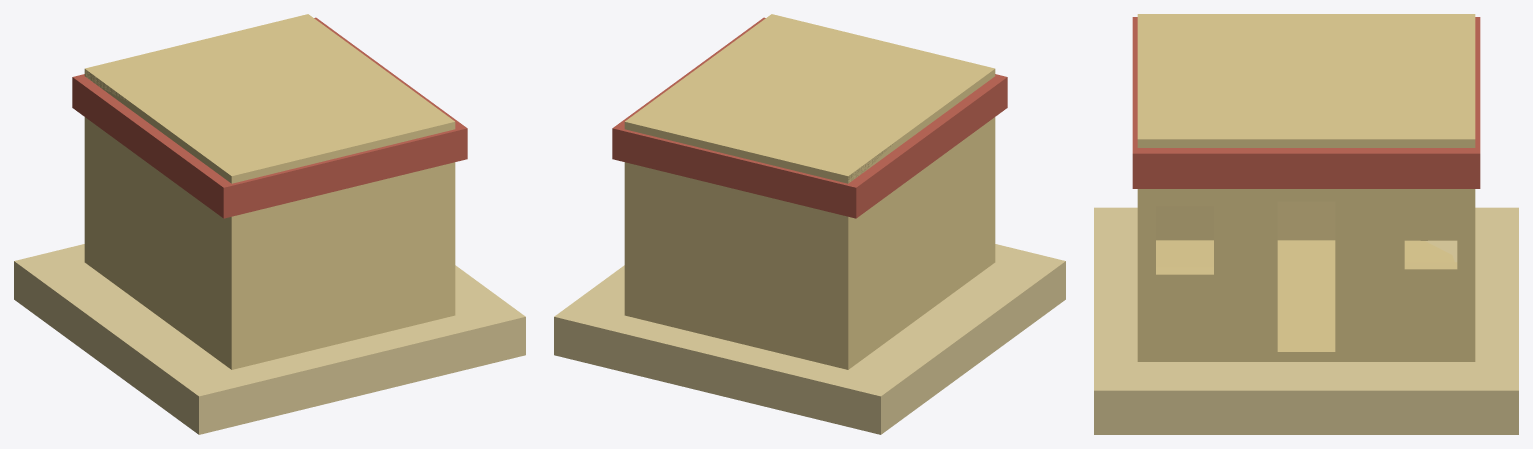
File: House2.fbx
3 views of the same model, side by side, from view 1: azimuth 30°, elevation 25°; view 2: azimuth 150°, elevation 25°; view 3: azimuth 270°, elevation 25° (orthographic). The views are drawn at different scales.
Parts seen in each view (by area): view 1: Cube.025; view 2: Cube.025; view 3: Cube.025.
Boxes of the visible parts, box(x1,y1,x2,y2) form: Cube.025: box(14, 14, 525, 434); Cube.025: box(554, 14, 1065, 434); Cube.025: box(1094, 14, 1518, 434).
Bounding box in the file's own units: 584 × 397 × 573.
